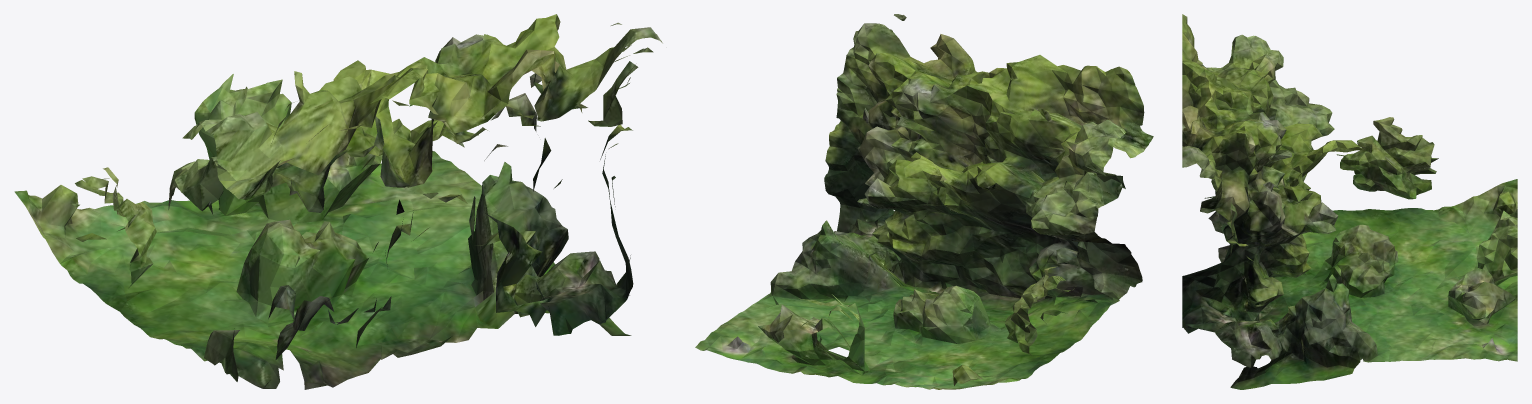
3 views of the same model, side by side, from view 1: azimuth 30°, elevation 25°; view 2: azimuth 150°, elevation 25°; view 3: azimuth 270°, elevation 25° (orthographic). The views are drawn at different scales.
Size of the model in its own units: 26.11 by 21.34 by 26.11.
Materials: 7 (7 with a texture image).
